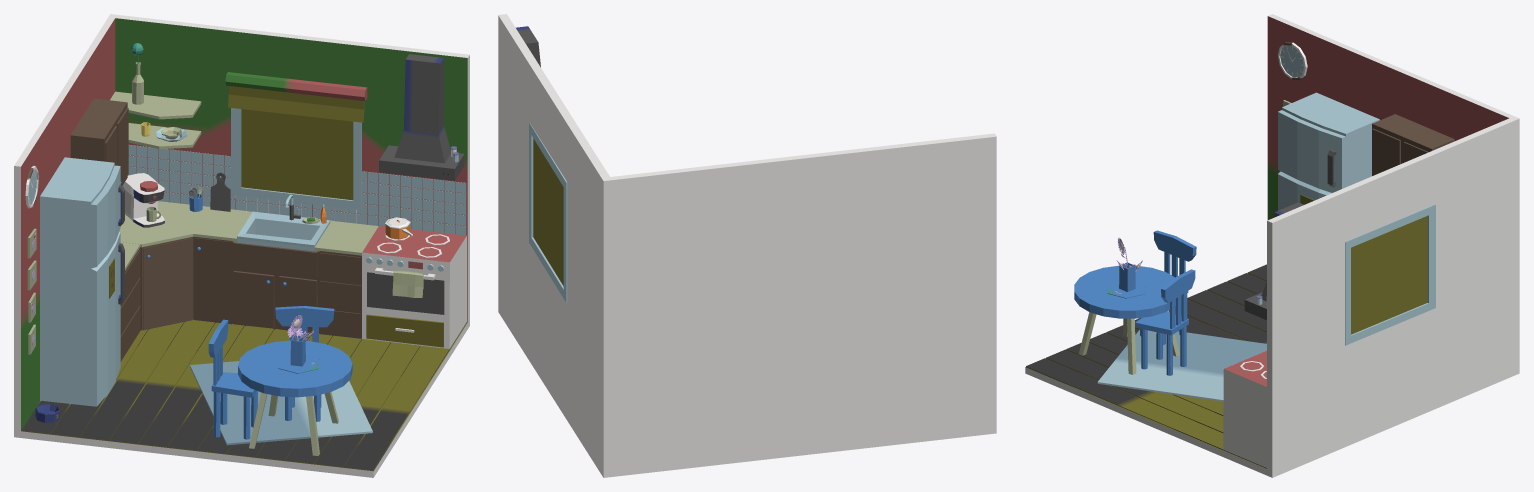
Rendered from Kitchen_2.fbx.
3 renders of one model, left to right at view 1: azimuth 30°, elevation 25°; view 2: azimuth 150°, elevation 25°; view 3: azimuth 270°, elevation 25°, orthographic. The views are drawn at different scales.
Visible parts, largest first — view 1: Kitchen_2_Base, Kitchen_2_Boards, Kitchen_2, Kitchen_2_Fridge, Kitchen_2_Window, Kitchen_2_Tiles, Kitchen_2_Stove, Kitchen_2_Cabinet, Kitchen_2_Hood, Kitchen_2_Table, Kitchen_2_Carpet, Kitchen_2_Curtain (+8 smaller); view 2: Kitchen_2_Base, Kitchen_2_Window; view 3: Kitchen_2_Base, Kitchen_2_Boards, Kitchen_2_Window, Kitchen_2_Fridge, Kitchen_2_Carpet, Kitchen_2, Kitchen_2_Table, Kitchen_2_Stove, Kitchen_2_Chair, Kitchen_2_Clock, Kitchen_2_Hood.
Boxes of the visible parts, x1=… form: Kitchen_2_Base: x1=14, y1=14, x2=469, y2=477; Kitchen_2_Boards: x1=22, y1=319, x2=466, y2=470; Kitchen_2: x1=70, y1=98, x2=378, y2=421; Kitchen_2_Fridge: x1=40, y1=157, x2=124, y2=406; Kitchen_2_Window: x1=231, y1=108, x2=361, y2=209; Kitchen_2_Tiles: x1=122, y1=145, x2=466, y2=235; Kitchen_2_Stove: x1=362, y1=225, x2=466, y2=348; Kitchen_2_Cabinet: x1=232, y1=211, x2=335, y2=333; Kitchen_2_Hood: x1=379, y1=54, x2=464, y2=180; Kitchen_2_Table: x1=238, y1=340, x2=352, y2=455; Kitchen_2_Carpet: x1=190, y1=361, x2=372, y2=445; Kitchen_2_Curtain: x1=225, y1=72, x2=367, y2=122; Kitchen_2_Base: x1=498, y1=14, x2=996, y2=477; Kitchen_2_Window: x1=529, y1=122, x2=567, y2=302; Kitchen_2_Base: x1=1025, y1=14, x2=1519, y2=477; Kitchen_2_Boards: x1=1026, y1=264, x2=1266, y2=468; Kitchen_2_Window: x1=1345, y1=204, x2=1435, y2=345; Kitchen_2_Fridge: x1=1278, y1=92, x2=1379, y2=210; Kitchen_2_Carpet: x1=1097, y1=329, x2=1266, y2=401; Kitchen_2: x1=1135, y1=114, x2=1454, y2=375; Kitchen_2_Table: x1=1074, y1=265, x2=1179, y2=374; Kitchen_2_Stove: x1=1223, y1=350, x2=1266, y2=467; Kitchen_2_Chair: x1=1140, y1=230, x2=1196, y2=344; Kitchen_2_Clock: x1=1277, y1=42, x2=1307, y2=79; Kitchen_2_Hood: x1=1244, y1=202, x2=1303, y2=320.
Bounding box in the file's own units: 707 × 707 × 402.
